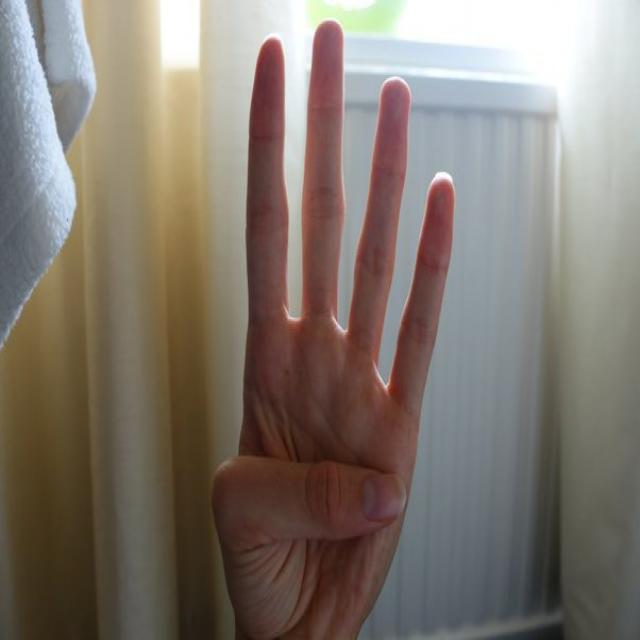bare_hand: (210, 19, 455, 640)
